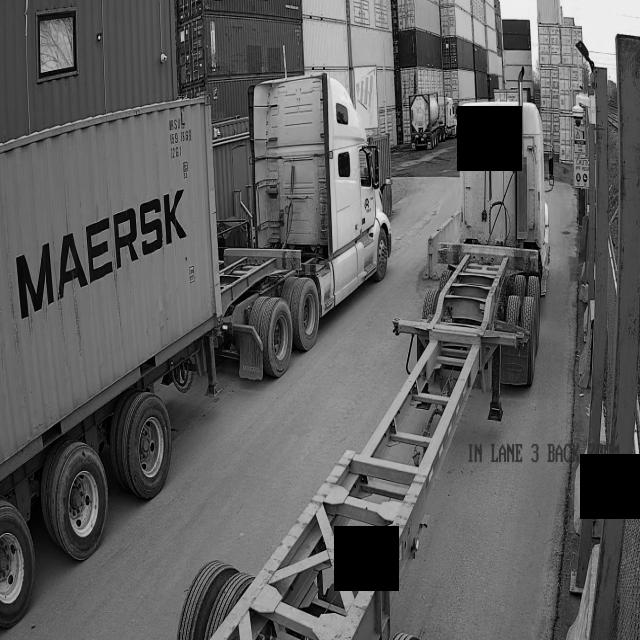container_company_logo: (16, 190, 186, 317)
container_number: (160, 113, 201, 185)
truck_with_container: (0, 72, 392, 627)
truck_without_container: (179, 100, 554, 640)
